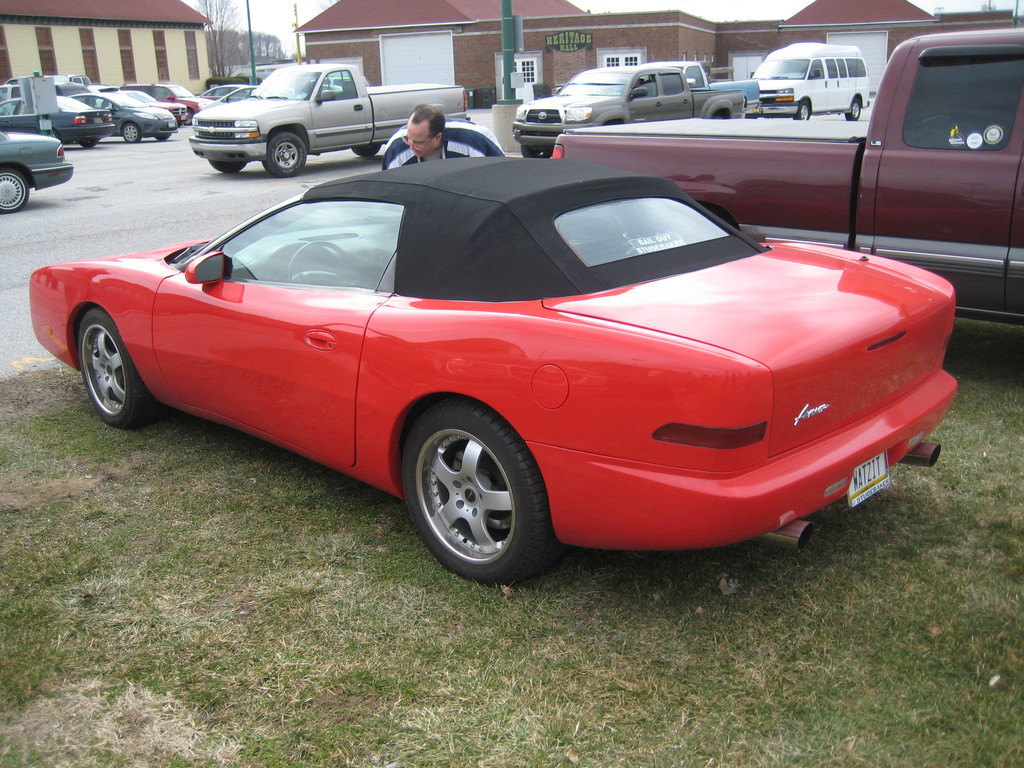Car: (28, 156, 956, 581), (0, 139, 78, 211), (74, 88, 179, 140)
